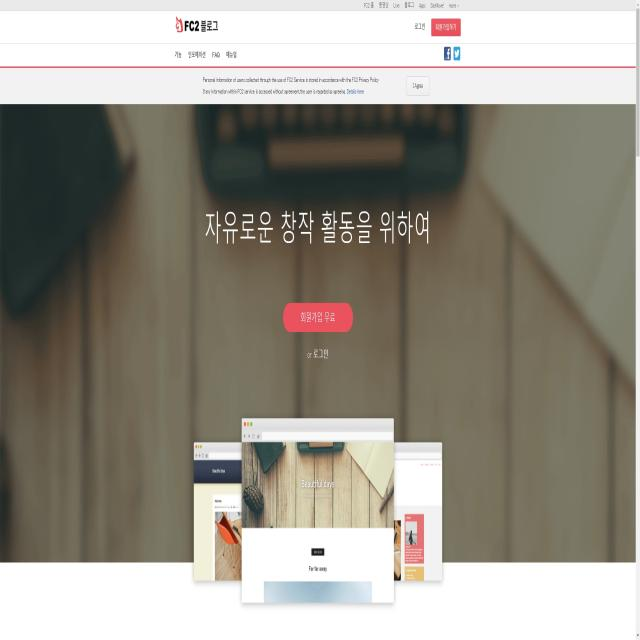menu-bar: (358, 3, 466, 7)
tab-bar: (172, 49, 244, 60)
